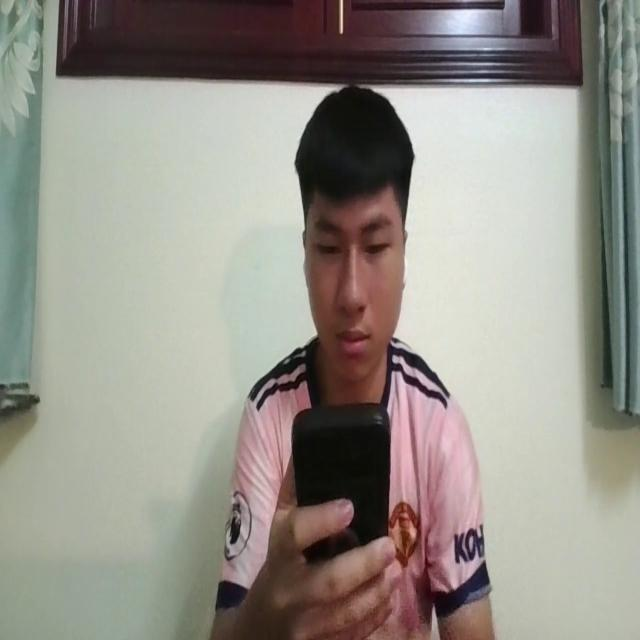phone: (289, 393, 390, 553)
student: (210, 79, 496, 640)
